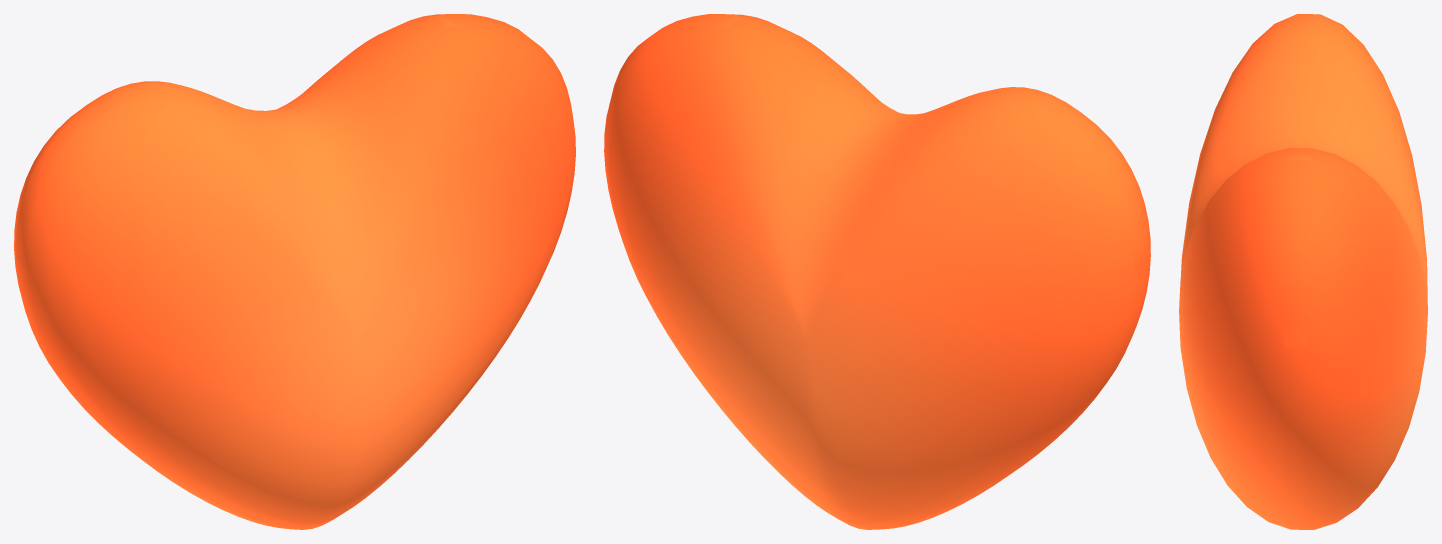
The model's file is heart-orange-volume-v11.glb.
3 renders of one model, left to right at view 1: azimuth 30°, elevation 25°; view 2: azimuth 150°, elevation 25°; view 3: azimuth 270°, elevation 25°, orthographic. The views are drawn at different scales.
Visible parts, largest first — view 1: Heart_Glass; view 2: Heart_Glass; view 3: Heart_Glass.
Boxes of the visible parts, bbox=[...] form: Heart_Glass: bbox=[14, 14, 575, 529]; Heart_Glass: bbox=[604, 14, 1150, 529]; Heart_Glass: bbox=[1179, 14, 1427, 529].
Size of the model in its own units: 0.0801 by 0.0665 by 0.0347.
1 material, 1 textured.
